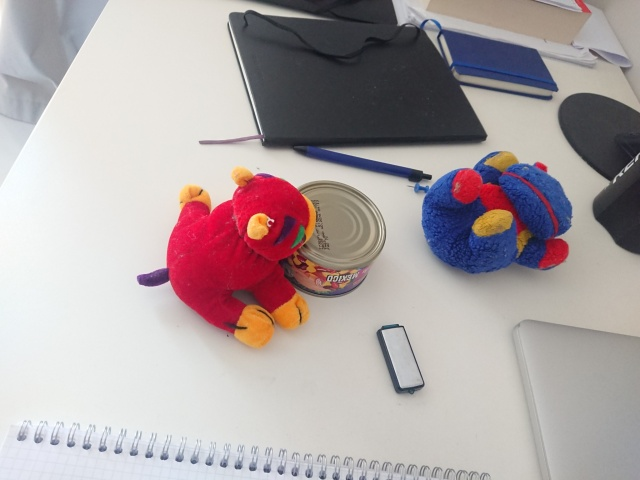Giana Tuna Salad Mexico 185g: (264, 178, 389, 300)
